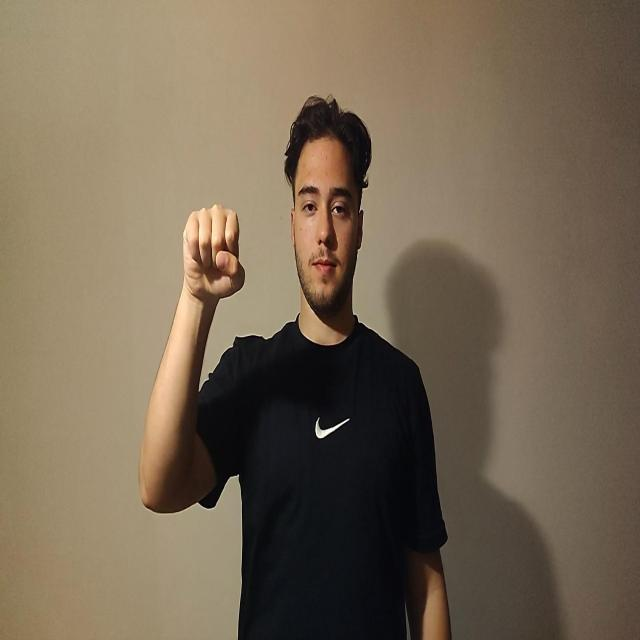yes: (182, 202, 245, 303)
